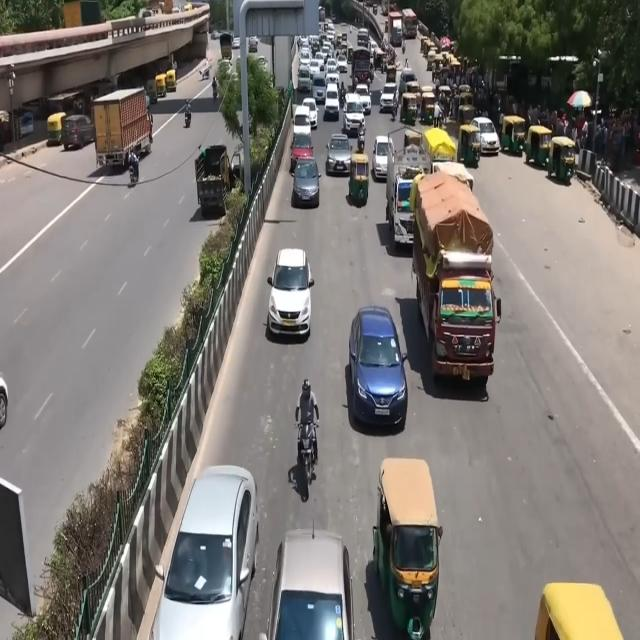auto: (377, 457, 444, 635), (548, 135, 577, 184), (525, 124, 553, 170), (457, 123, 482, 170), (349, 150, 370, 205), (501, 114, 527, 156), (400, 91, 420, 127), (47, 112, 67, 146), (420, 88, 436, 126), (457, 98, 476, 127), (438, 85, 452, 118), (145, 78, 158, 105), (155, 73, 167, 98), (165, 69, 177, 93)
bike-auto: (295, 379, 320, 463), (129, 150, 139, 184), (357, 119, 365, 151), (184, 104, 191, 126), (390, 101, 397, 121), (338, 89, 344, 110), (370, 62, 374, 83), (402, 38, 406, 53)
